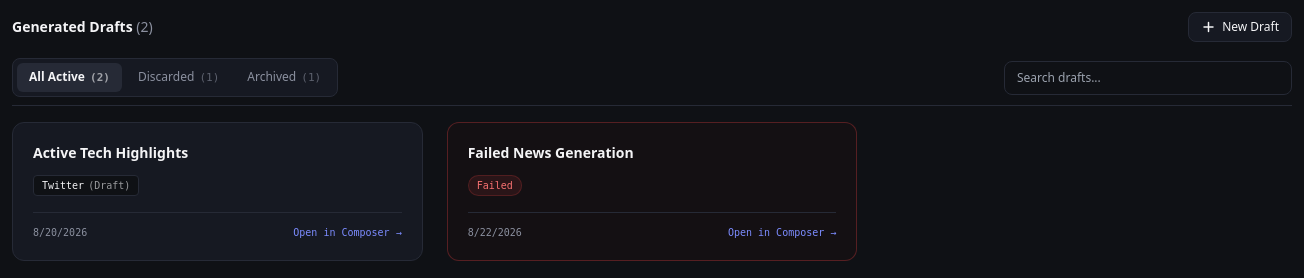
Test case: WorkflowDraftsList › filters drafts using the search bar
Type "highlights" into the field with test id "workflow-drafts-search-input" at (1148, 78), box [1004,60,1292,94]
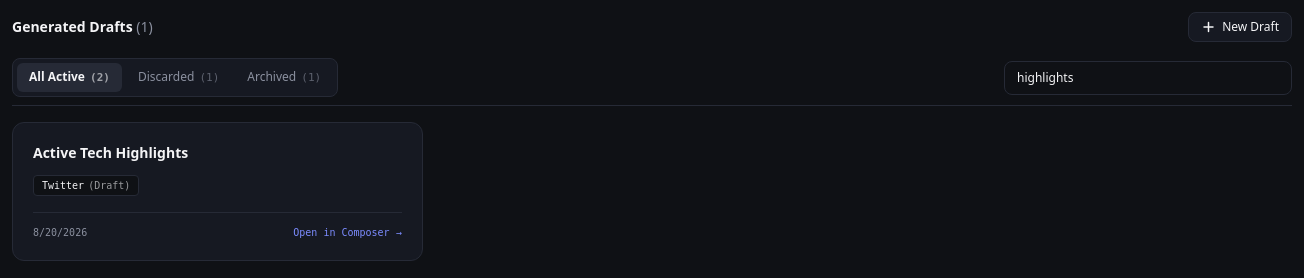
Expected: the heading "Active Tech Highlights" is shown, [33,143,188,163]
Now the heading "Failed News Generation" is gone
